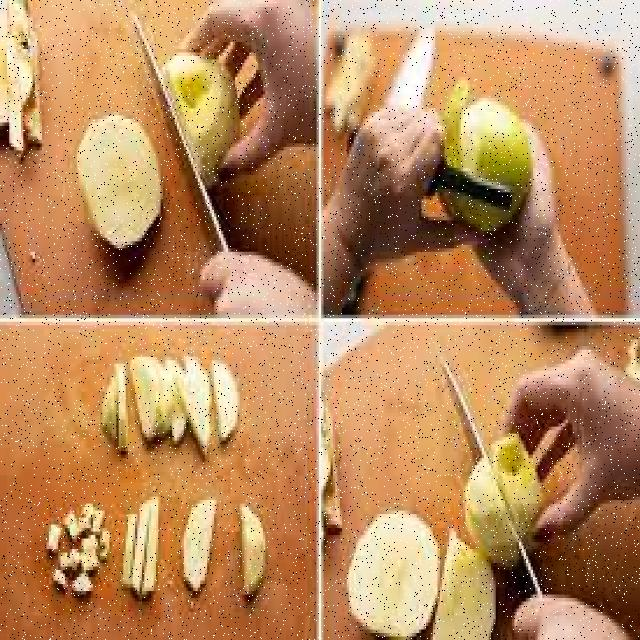Apple: (440, 102, 534, 229), (76, 116, 161, 251), (350, 508, 438, 638), (458, 434, 542, 558), (160, 55, 238, 175), (439, 525, 495, 640), (181, 501, 221, 596), (237, 501, 270, 590), (100, 363, 129, 454), (212, 357, 241, 438), (144, 498, 163, 602), (117, 514, 138, 592), (190, 353, 208, 443), (134, 358, 154, 438)
